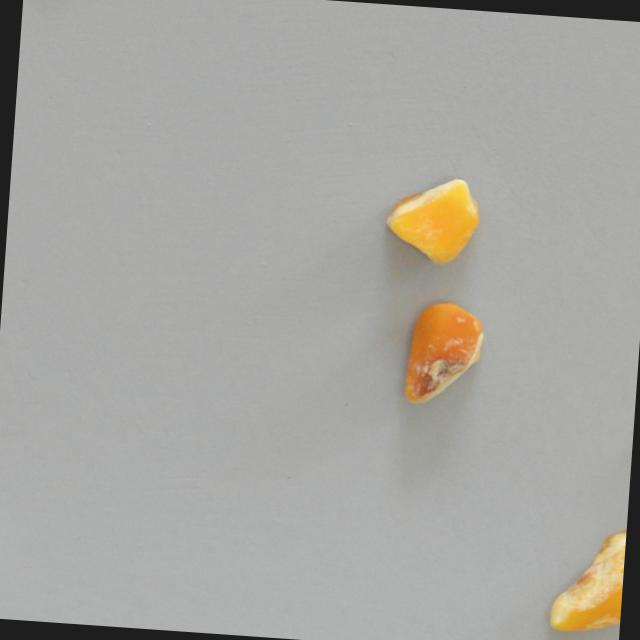dañado: (396, 291, 488, 415), (544, 519, 626, 637)
pelicula: (383, 172, 482, 267)
